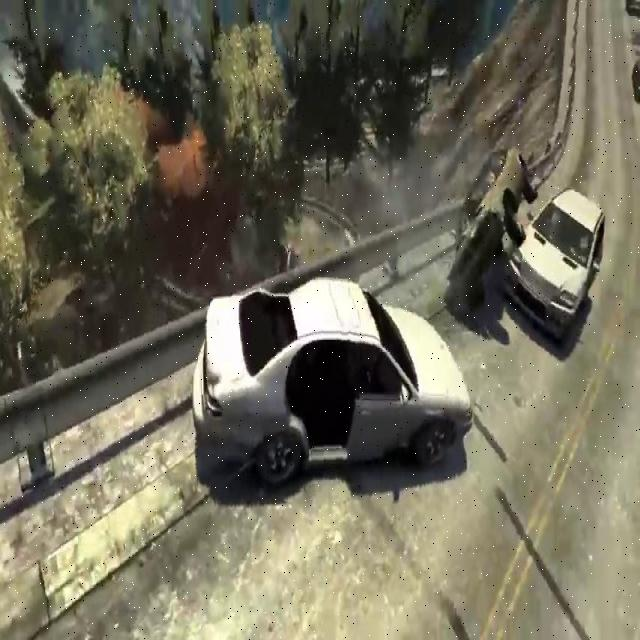severe: (442, 134, 609, 350)
